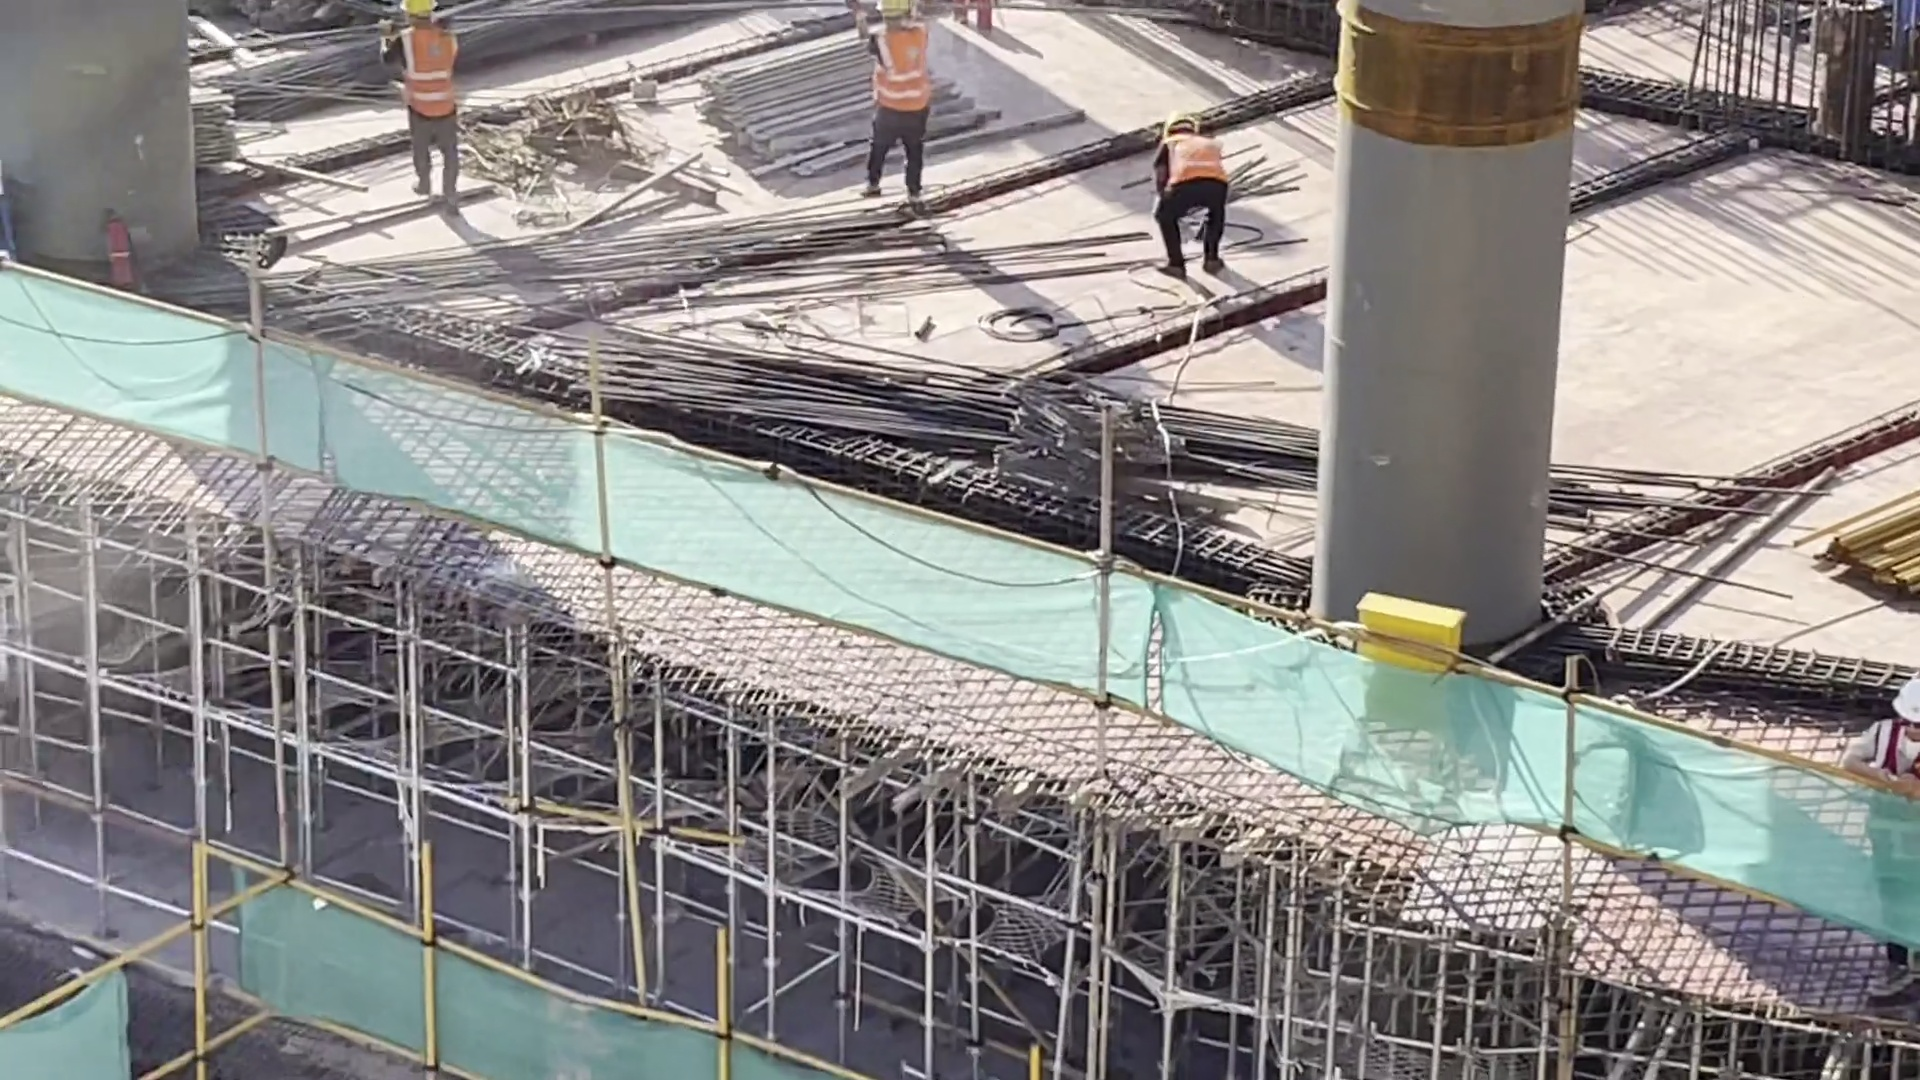ebox: (1352, 576, 1463, 768)
helmet: (398, 1, 449, 19)
person: (1851, 667, 1920, 1035), (386, 1, 475, 215), (860, 1, 938, 209), (1156, 112, 1238, 280)
vest: (383, 38, 470, 120), (861, 26, 942, 112), (1152, 127, 1234, 207)
wood: (688, 13, 988, 182)
